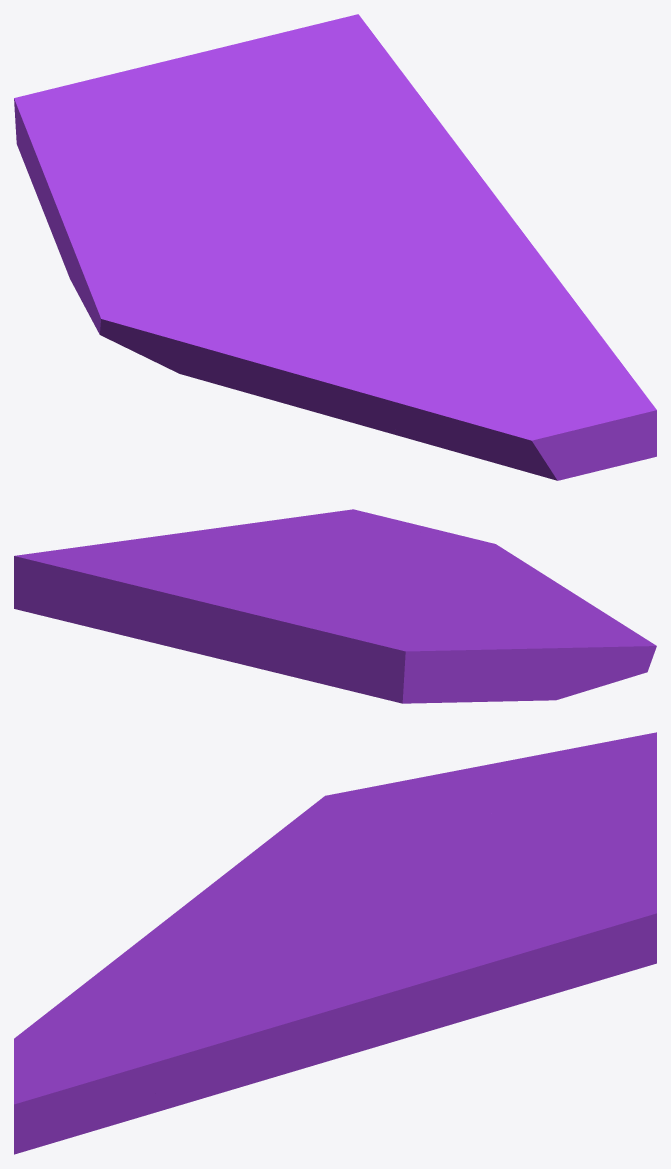
Rendered from Window_134_2_chunks.fbx.
3 views of the same model, one above another, from view 1: azimuth 30°, elevation 25°; view 2: azimuth 150°, elevation 25°; view 3: azimuth 270°, elevation 25° (orthographic). The views are drawn at different scales.
Visible parts, largest first — view 1: Window_134_2_8, Window_134_2_3, Window_134_2_2, Window_134_2_4, Window_134_2_23, Window_134_2_1, Window_134_2_5, Window_134_2_24, Window_134_2_21, Window_134_2_12, Window_134_2_9, Window_134_2_11 (+11 smaller); view 2: Window_134_2_23, Window_134_2_21, Window_134_2_8, Window_134_2_14, Window_134_2_3, Window_134_2_1, Window_134_2_13, Window_134_2_17, Window_134_2_6, Window_134_2_5, Window_134_2_24, Window_134_2_4 (+11 smaller); view 3: Window_134_2_8, Window_134_2_1, Window_134_2_11, Window_134_2_9, Window_134_2_3, Window_134_2_23, Window_134_2_5, Window_134_2_24, Window_134_2_21, Window_134_2_4, Window_134_2_12, Window_134_2_2 (+12 smaller).
Boxes of the visible parts, box(x1,y1,x2,y2) form: Window_134_2_8: box(246, 71, 495, 261); Window_134_2_3: box(304, 260, 455, 432); Window_134_2_2: box(388, 365, 656, 480); Window_134_2_4: box(165, 294, 316, 409); Window_134_2_23: box(14, 59, 217, 160); Window_134_2_1: box(307, 197, 523, 313); Window_134_2_5: box(136, 209, 307, 302); Window_134_2_24: box(203, 59, 400, 133); Window_134_2_21: box(172, 14, 391, 78); Window_134_2_12: box(428, 290, 549, 396); Window_134_2_9: box(539, 312, 656, 433); Window_134_2_11: box(457, 234, 582, 334); Window_134_2_23: box(225, 601, 425, 700); Window_134_2_21: box(14, 550, 229, 661); Window_134_2_8: box(63, 534, 418, 596); Window_134_2_14: box(474, 628, 582, 701); Window_134_2_3: box(393, 558, 575, 594); Window_134_2_1: box(171, 530, 410, 587); Window_134_2_13: box(565, 632, 656, 691); Window_134_2_17: box(375, 622, 453, 703); Window_134_2_6: box(431, 615, 501, 702); Window_134_2_5: box(415, 589, 558, 629); Window_134_2_24: box(53, 549, 297, 601); Window_134_2_4: box(460, 590, 626, 627); Window_134_2_8: box(336, 864, 564, 1048); Window_134_2_1: box(223, 903, 369, 1081); Window_134_2_11: box(145, 987, 299, 1115); Window_134_2_9: box(14, 1035, 173, 1129); Window_134_2_3: box(83, 902, 335, 991); Window_134_2_23: box(505, 732, 656, 845); Window_134_2_5: box(290, 808, 446, 906); Window_134_2_24: box(516, 833, 619, 941); Window_134_2_21: box(580, 815, 656, 947); Window_134_2_4: box(169, 840, 315, 917); Window_134_2_12: box(73, 973, 244, 1043); Window_134_2_2: box(14, 984, 141, 1154).
Bounding box in the file's own units: 927 × 482 × 1165.
